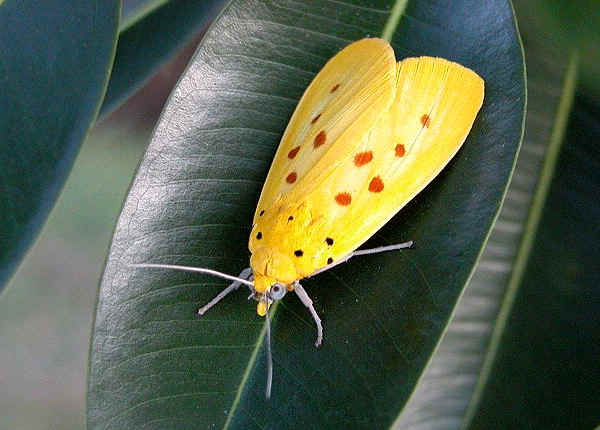Agape chloropyga: (119, 34, 488, 404)
moth: (121, 36, 490, 406)
